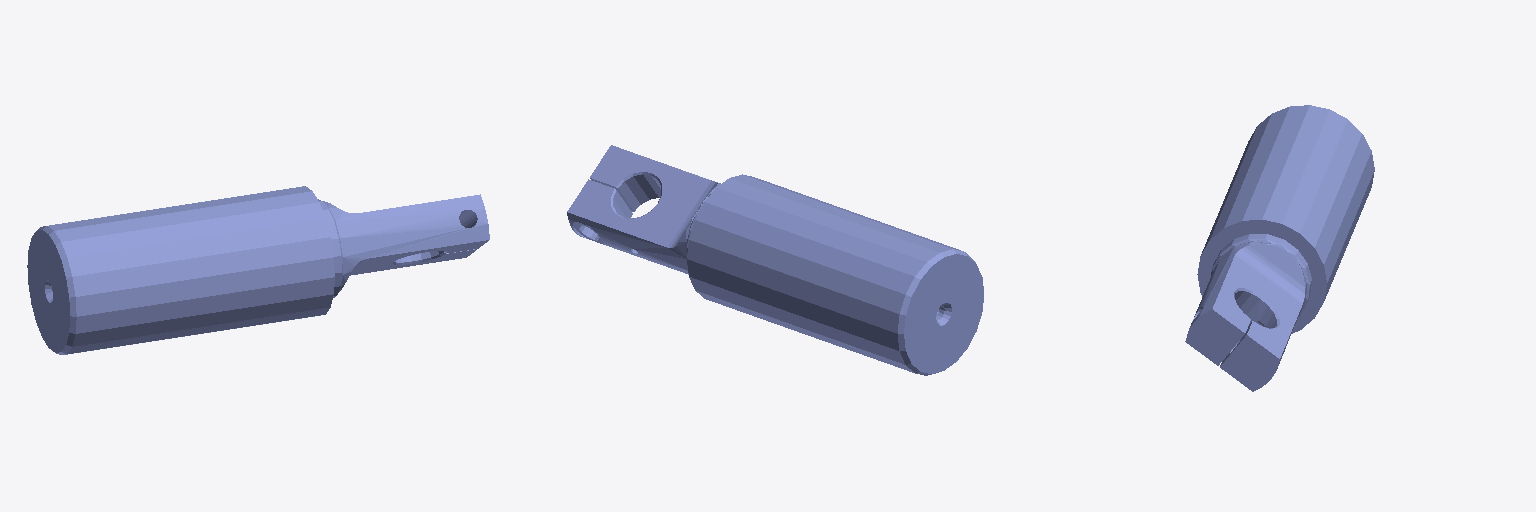
Rendered from ActuatorBottomRight.obj.
3 views of the same model, side by side, from view 1: azimuth 30°, elevation 25°; view 2: azimuth 150°, elevation 25°; view 3: azimuth 270°, elevation 25° (orthographic).
Parts seen in each view (by area): view 1: 1300_derived_Shaft.stp; view 2: 1300_derived_Shaft.stp; view 3: 1300_derived_Shaft.stp.
Part boxes in pixels (bbox=[...]): 1300_derived_Shaft.stp: bbox=[27, 186, 489, 354]; 1300_derived_Shaft.stp: bbox=[567, 145, 983, 375]; 1300_derived_Shaft.stp: bbox=[1185, 105, 1374, 391].
Bounding box in the file's own units: 0.2466 × 0.07 × 0.1008.